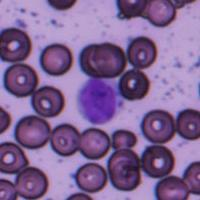L: (76, 77, 124, 125)
